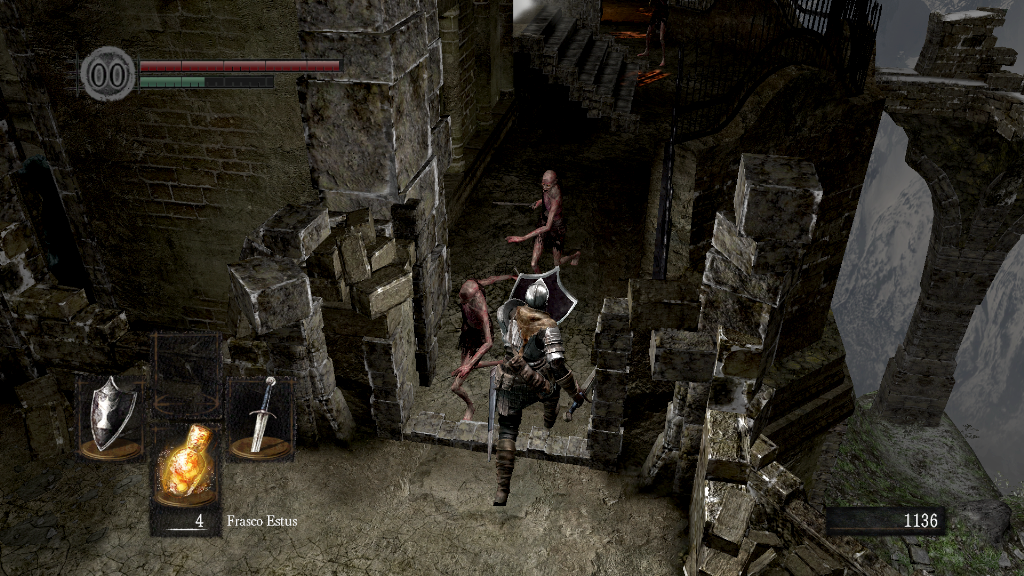health: (138, 58, 343, 71)
hollow: (448, 276, 504, 429), (506, 171, 580, 273)
humanity: (80, 45, 136, 102)
player: (492, 265, 597, 506)
souls: (825, 506, 945, 536)
stamina: (138, 74, 274, 88)
